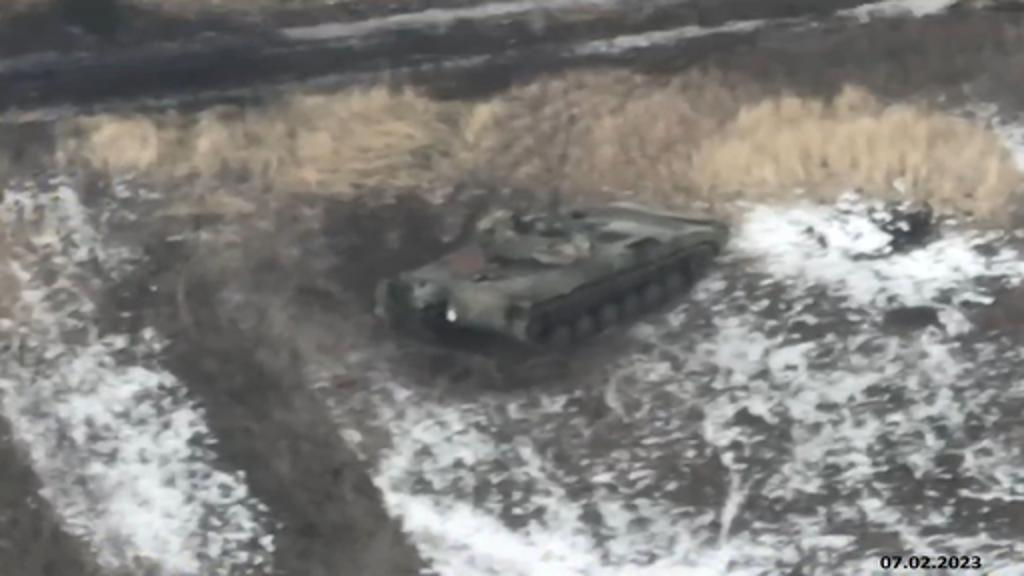APC-IFV: (392, 188, 732, 354)
